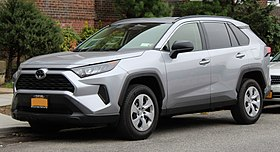Toyota RAV-4: (11, 15, 271, 140)
